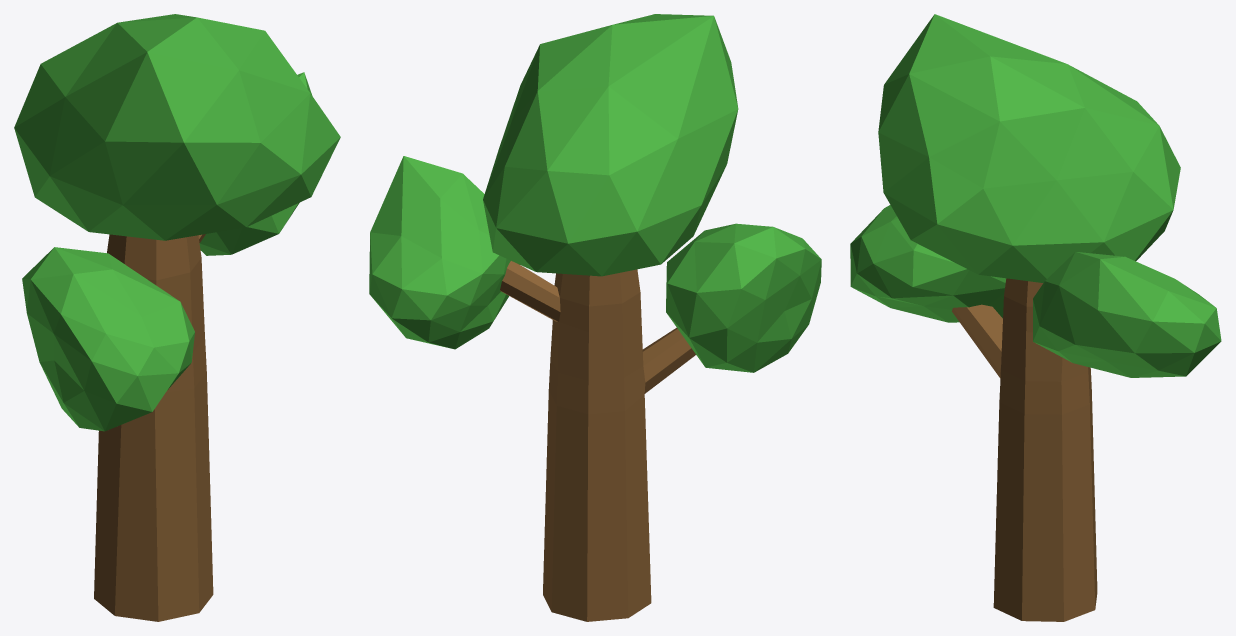
The model's file is tree_complex_2.glb.
3 renders of one model, left to right at view 1: azimuth 30°, elevation 25°; view 2: azimuth 150°, elevation 25°; view 3: azimuth 270°, elevation 25°, orthographic. The views are drawn at different scales.
Visible parts, largest first — view 1: Tree..004_Green_0, Tree..004_Trunk_0; view 2: Tree..004_Green_0, Tree..004_Trunk_0; view 3: Tree..004_Green_0, Tree..004_Trunk_0.
Boxes of the visible parts, x1,y1,x2,y2 form: Tree..004_Green_0: [14, 14, 340, 431]; Tree..004_Trunk_0: [94, 234, 213, 621]; Tree..004_Green_0: [369, 14, 821, 372]; Tree..004_Trunk_0: [500, 261, 695, 621]; Tree..004_Green_0: [850, 14, 1221, 377]; Tree..004_Trunk_0: [952, 278, 1097, 621].
Bounding box in the file's own units: 30.22 × 49.23 × 29.77.
